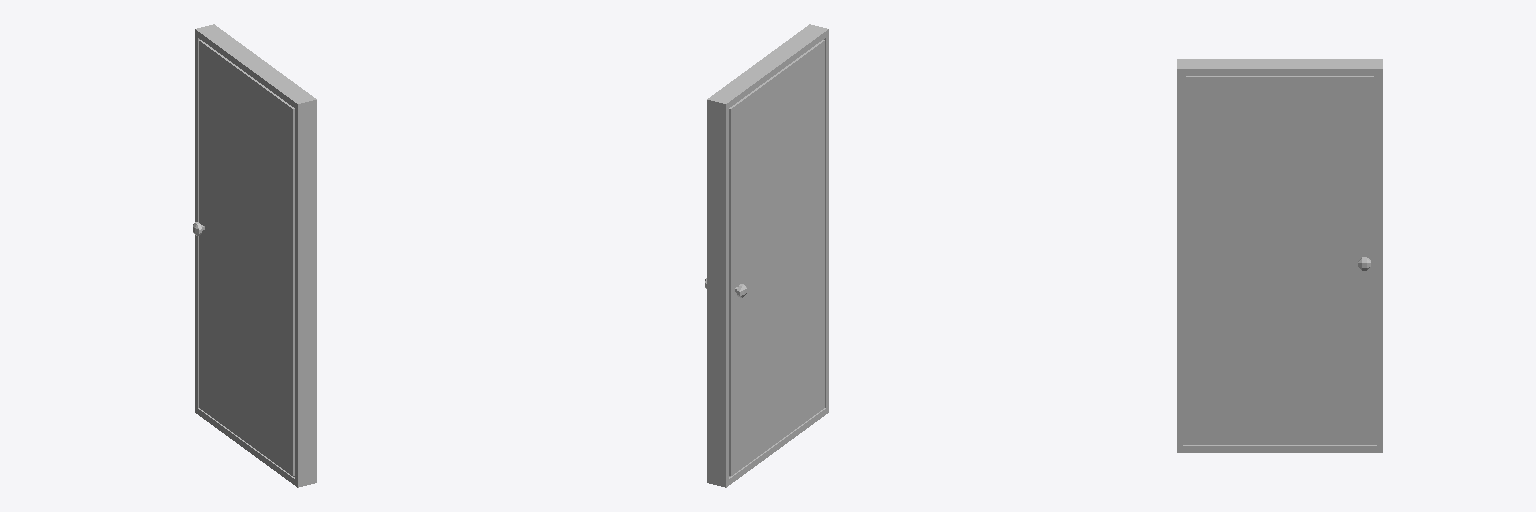
File: door.obj
3 renders of one model, left to right at view 1: azimuth 30°, elevation 25°; view 2: azimuth 150°, elevation 25°; view 3: azimuth 270°, elevation 25°, orthographic.
Parts seen in each view (by area): view 1: door; view 2: door; view 3: door.
Part boxes in pixels (x1,y1,x2,y2): door: (193,24,316,487); door: (705,24,828,487); door: (1177,59,1382,452).
Size of the model in its own units: 0.5965 by 5.54 by 2.69.